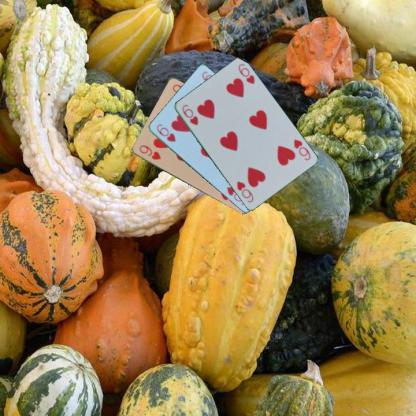6h: (290, 136, 312, 162), (154, 121, 176, 144), (179, 102, 199, 127)
9h: (136, 142, 162, 161)
